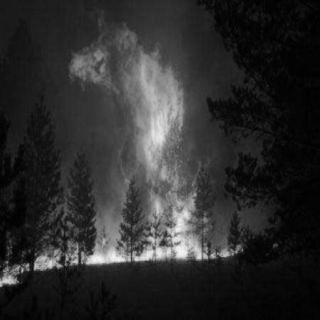Fire: (3, 5, 243, 283)
